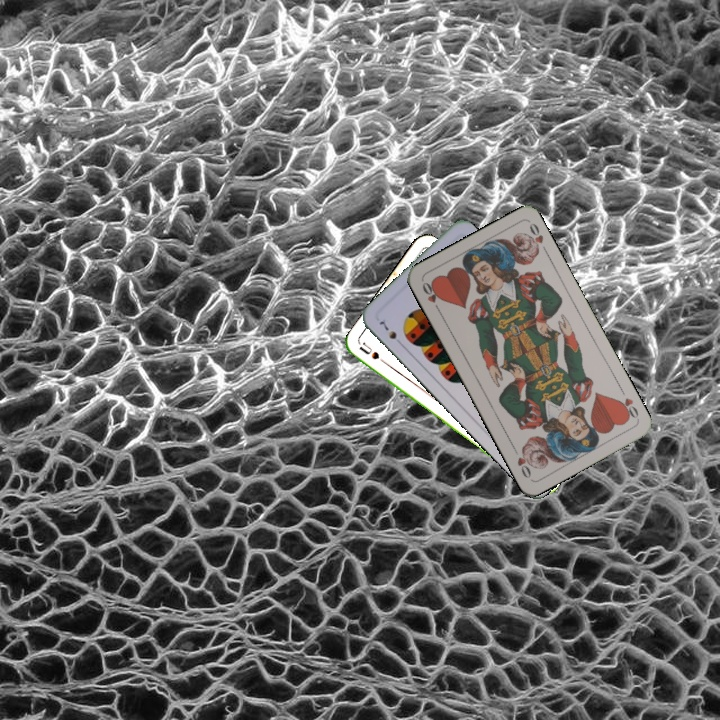HO: (614, 384, 641, 422), (418, 278, 443, 315)
S7: (375, 315, 405, 349)
SU: (356, 339, 393, 370)
